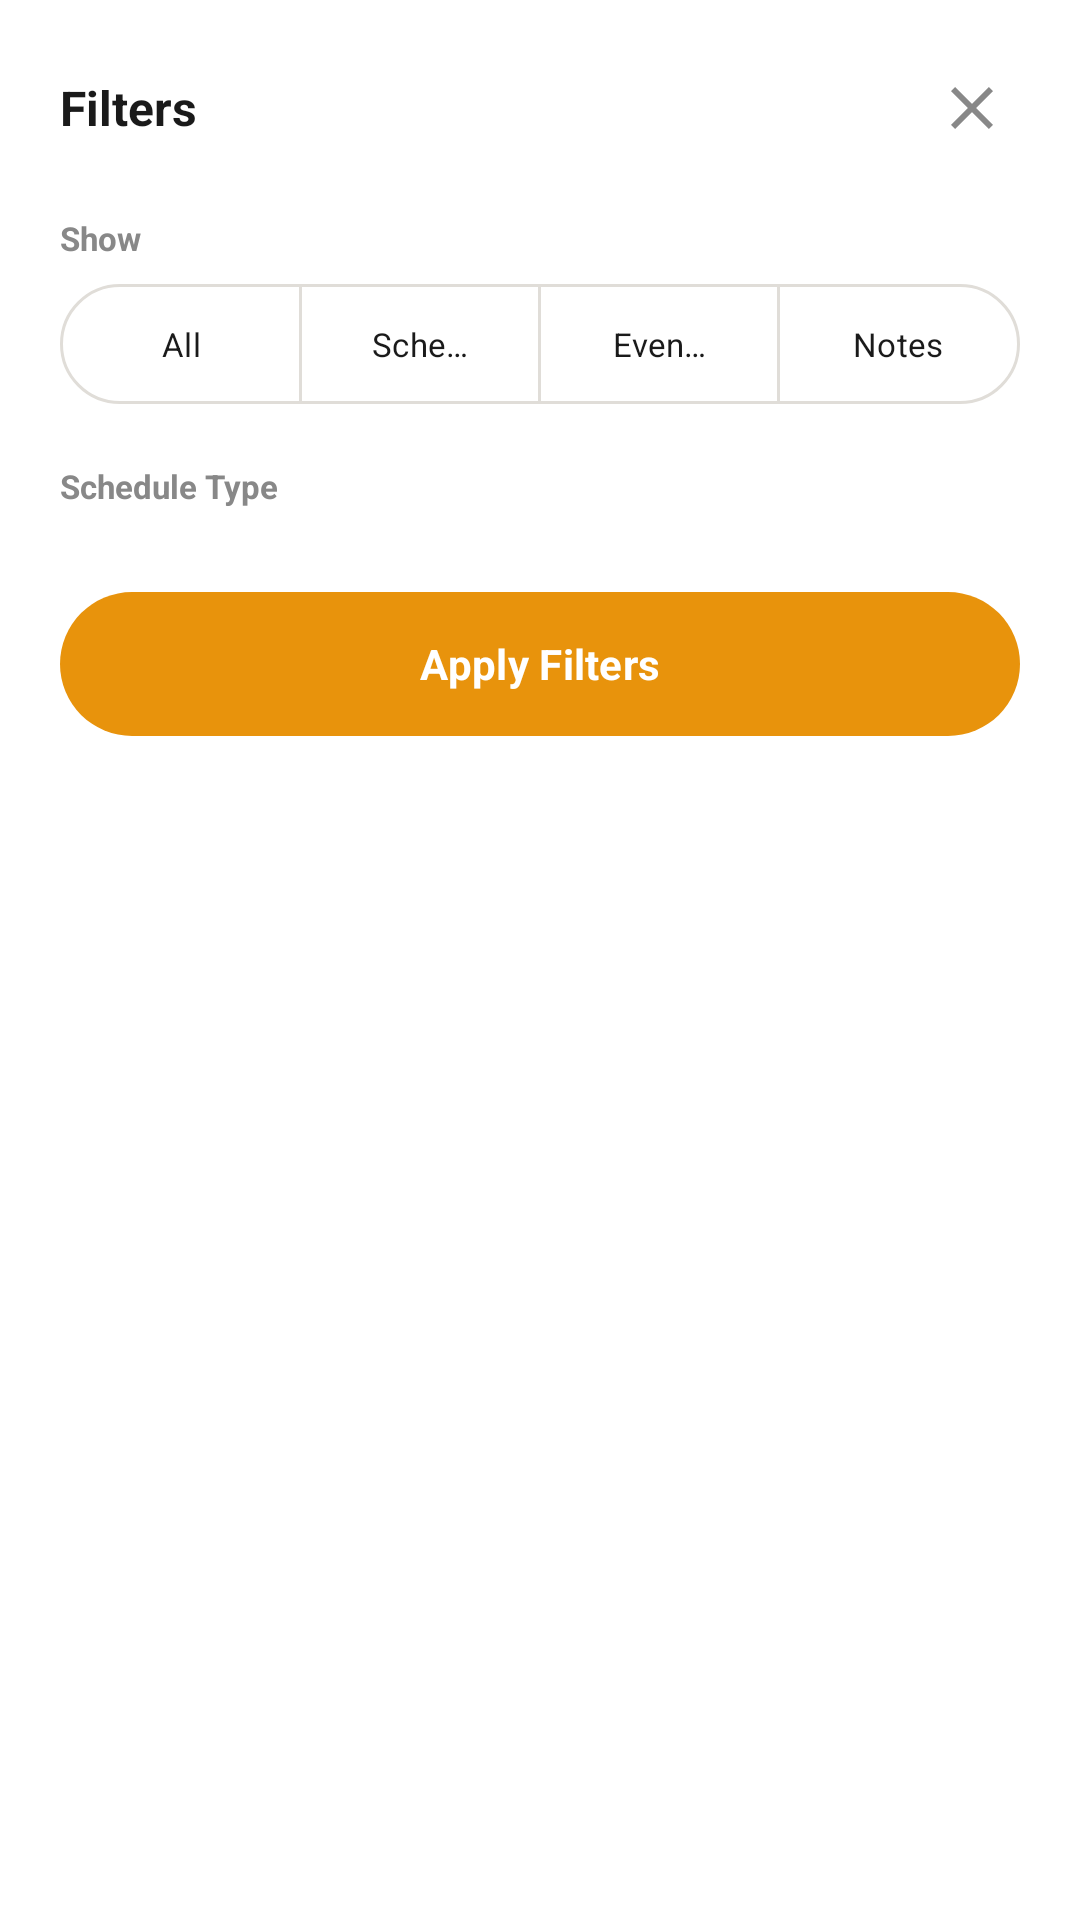

Icon click points for this 1080*1920 phone screenshot, format (x=x, y=y):
Cancel: (x=972, y=108)
